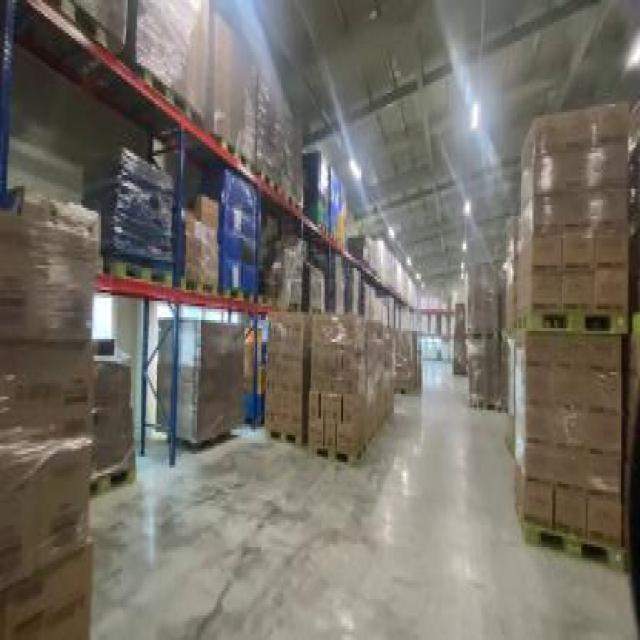box: (498, 101, 638, 566), (1, 197, 96, 634), (266, 309, 399, 460), (83, 150, 174, 288), (77, 331, 145, 495), (149, 320, 243, 435), (134, 3, 208, 120), (205, 11, 260, 167), (449, 268, 503, 416), (202, 167, 262, 298), (300, 148, 351, 249), (258, 68, 298, 194), (259, 213, 306, 320), (360, 232, 422, 304), (179, 200, 223, 295), (377, 323, 425, 391), (300, 252, 329, 306)
